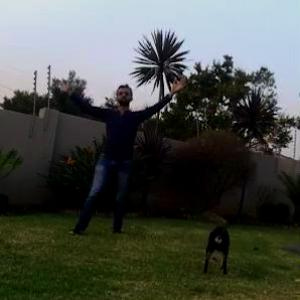takeoff: (64, 85, 180, 226)
